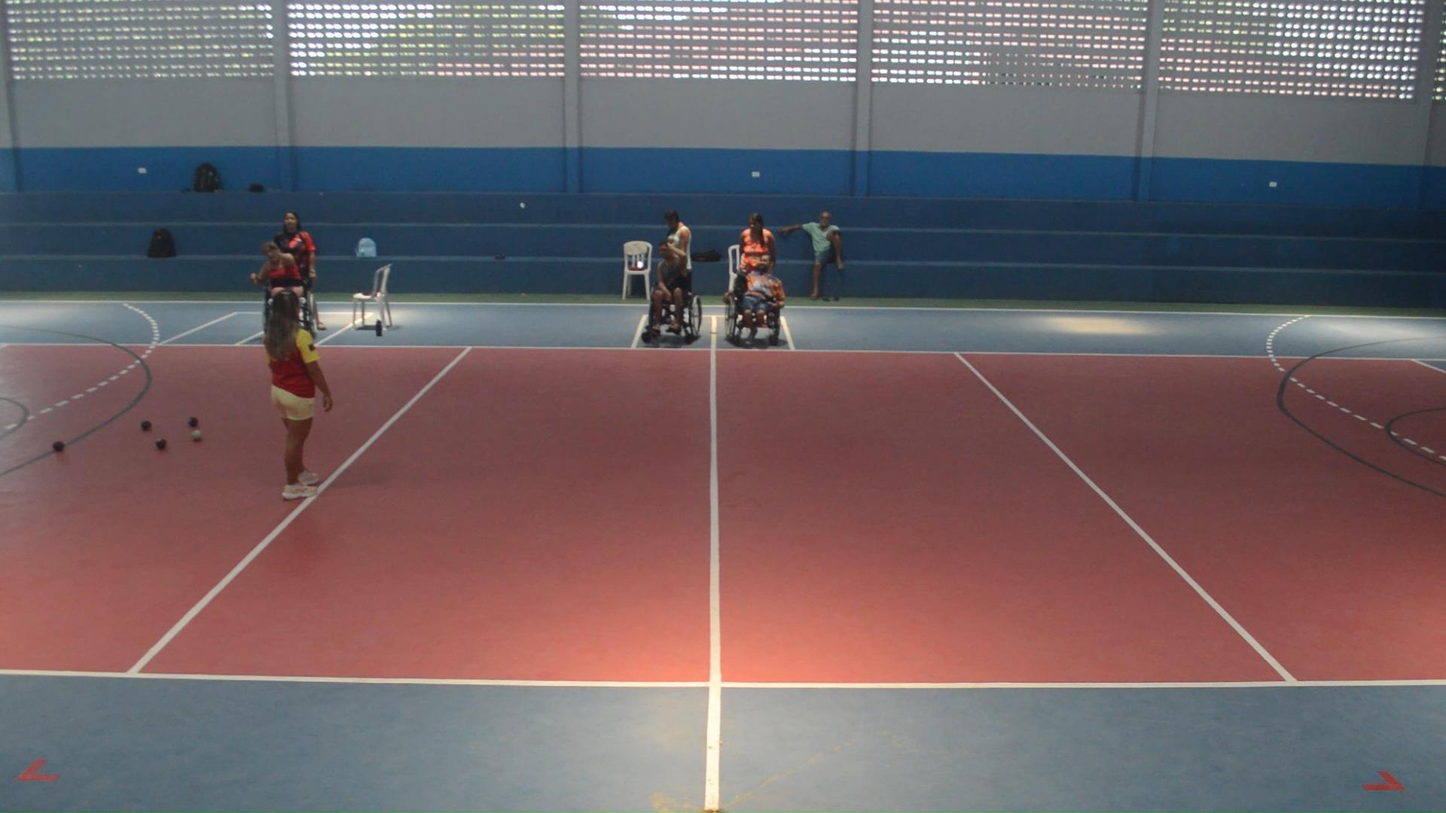red_ball: (140, 420, 151, 432), (156, 438, 167, 450)
white_ball: (191, 430, 202, 441)
